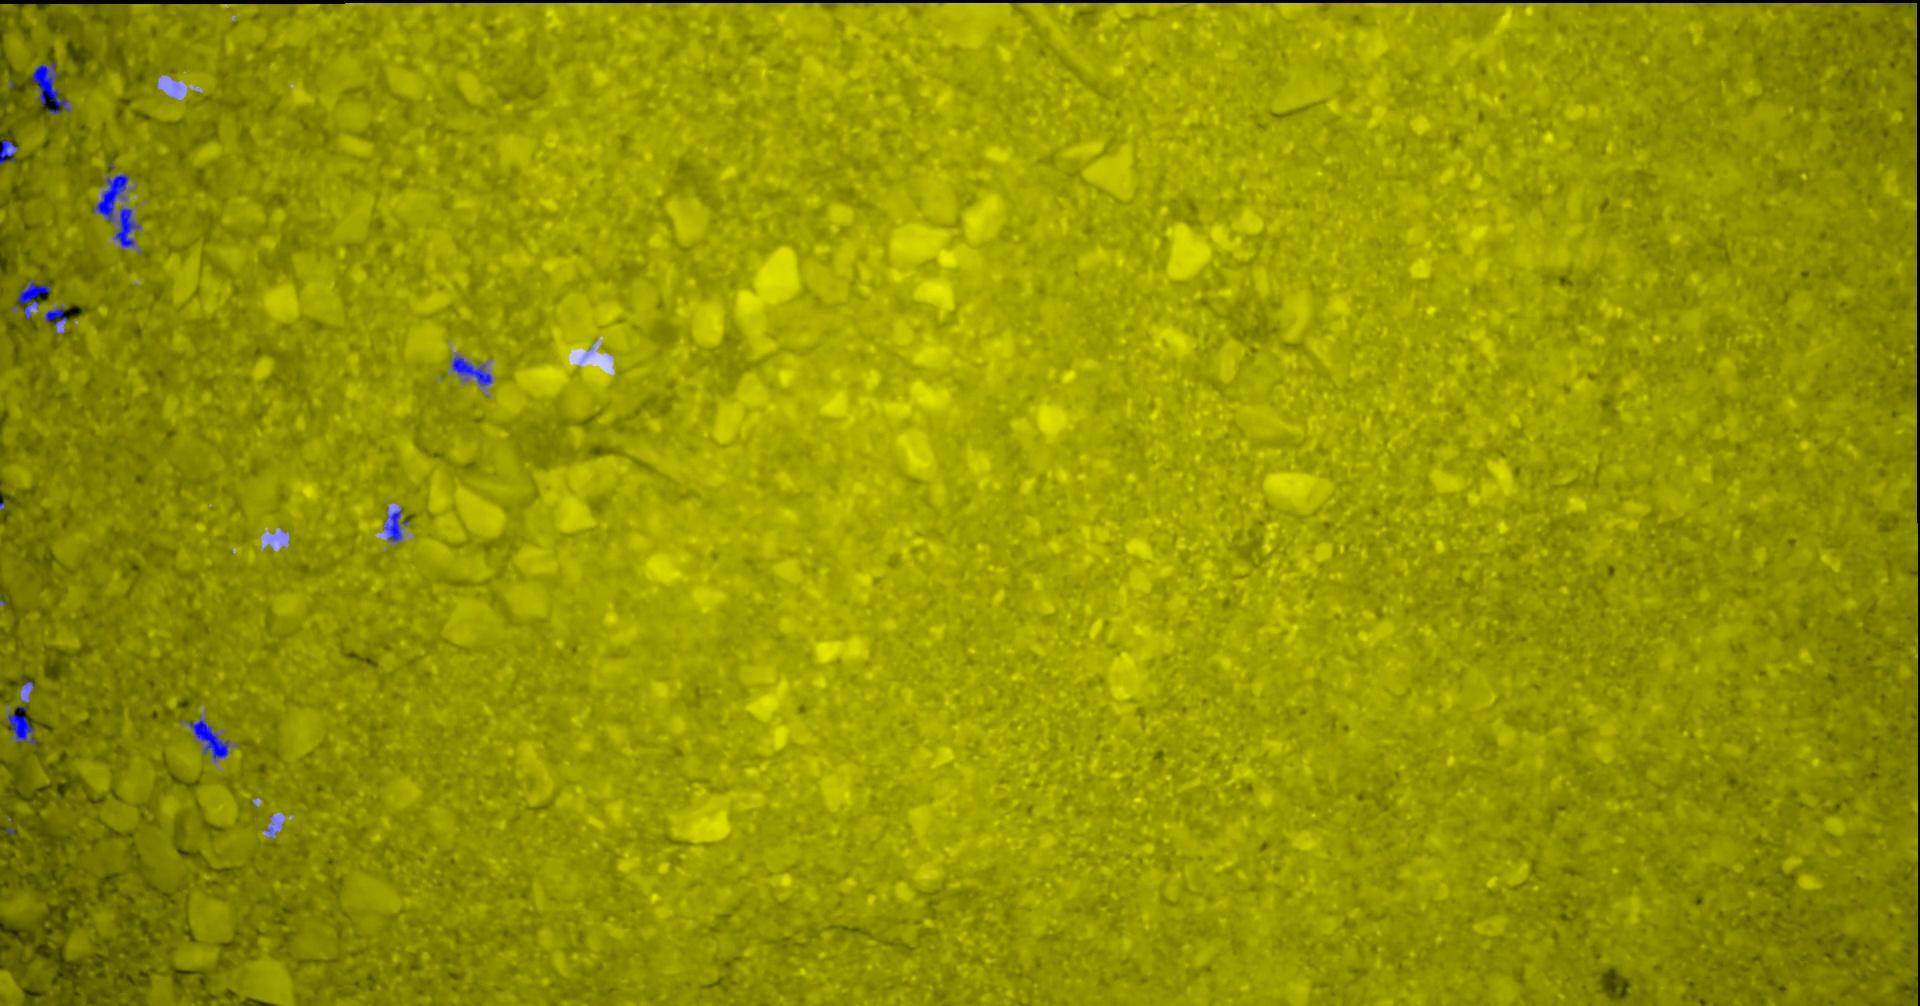ant: (30, 61, 69, 114), (188, 716, 229, 760), (93, 173, 128, 221), (17, 281, 51, 318), (451, 354, 491, 385), (6, 711, 36, 746), (114, 207, 140, 246), (383, 509, 403, 541), (44, 306, 67, 325), (0, 138, 17, 164)
